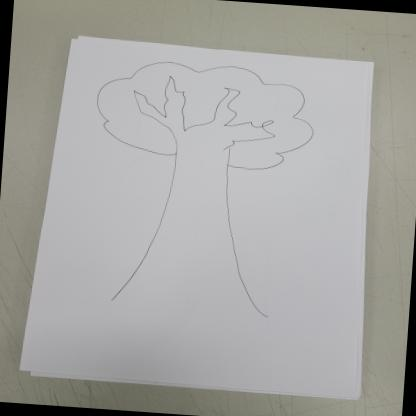branch_sharp: (125, 72, 284, 153)
crown_cloud: (88, 50, 322, 177)
trunk_reflex: (128, 184, 259, 286)
